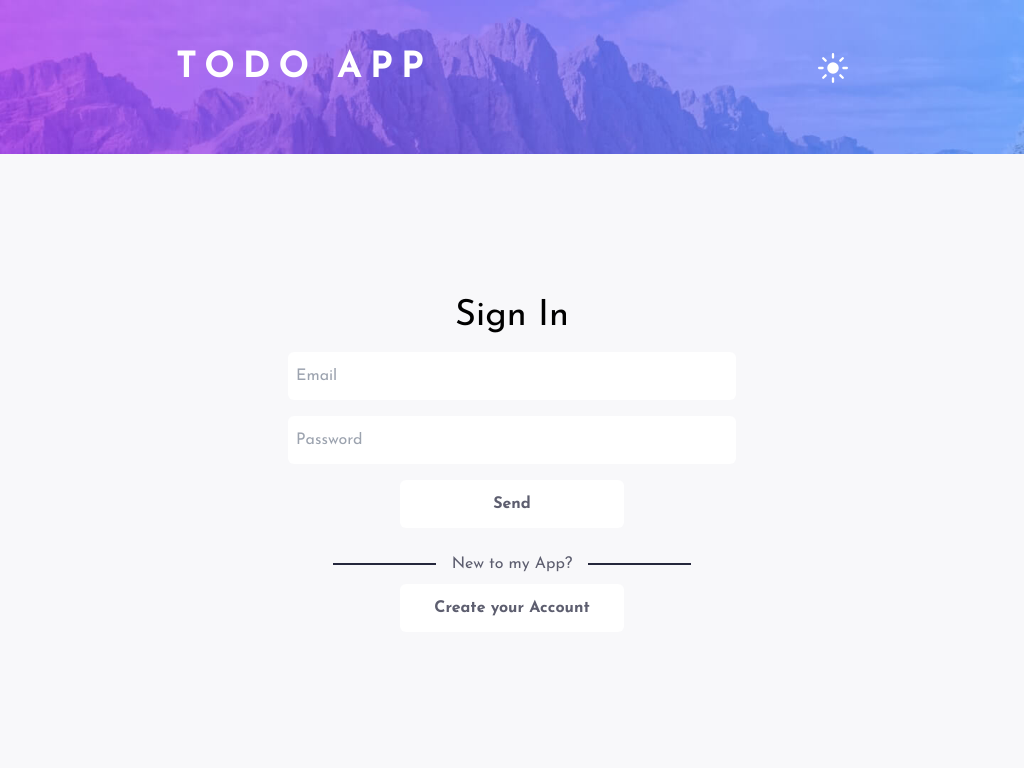
Test: Login › LOGIN-3
The width and height of the screenshot is (1024, 768).
Click the button "Send": (512, 504) 400,480 -> 624,528
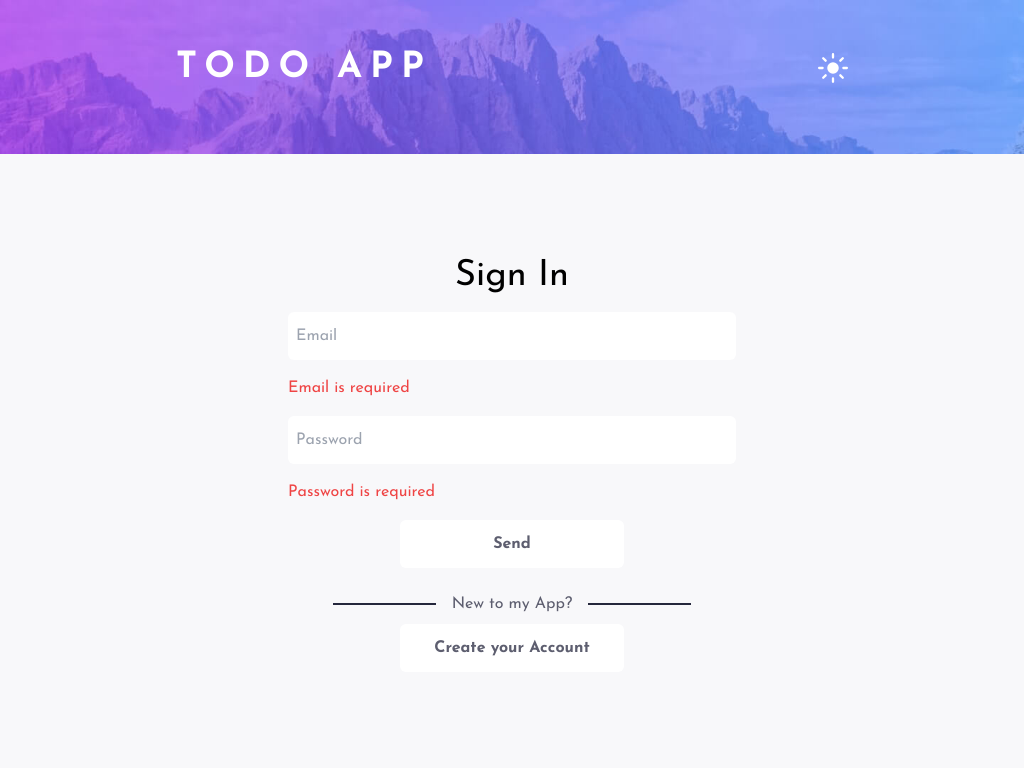
Expected: the text "Email is required" is shown, 288,380 -> 410,396
Expected: the text "Password is required" is shown, 288,484 -> 435,500
